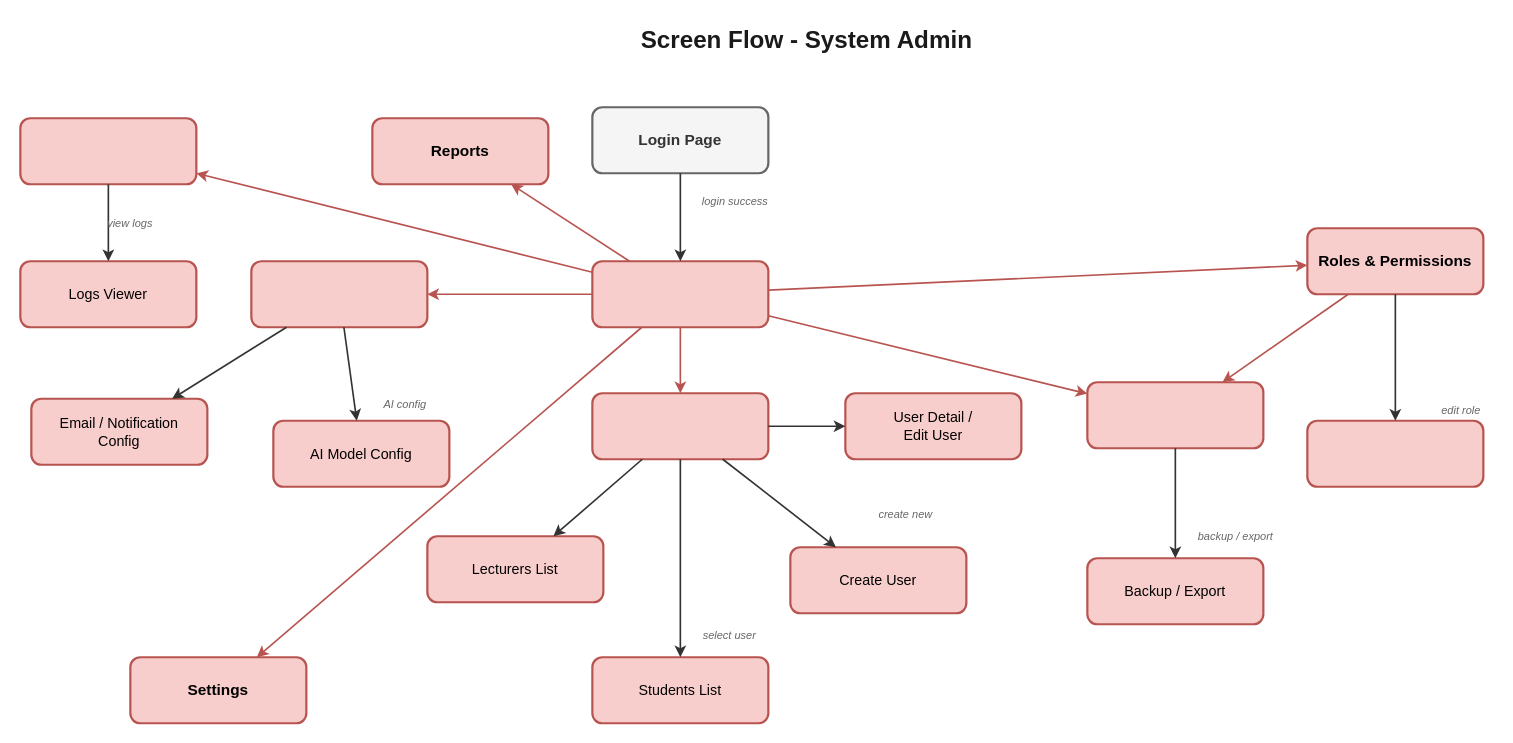
This 1513x743 diagram has some shape labels left out. Here are the shapes that lost their labels. From the top down, the centre of each, then its label:
the point at 108,151: System Health
the point at 339,294: System Config
the point at 680,294: Dashboard
the point at 680,426: User Management
the point at 1175,415: Case Data Mgmt
the point at 1395,453: Role Detail / Edit Permissions
